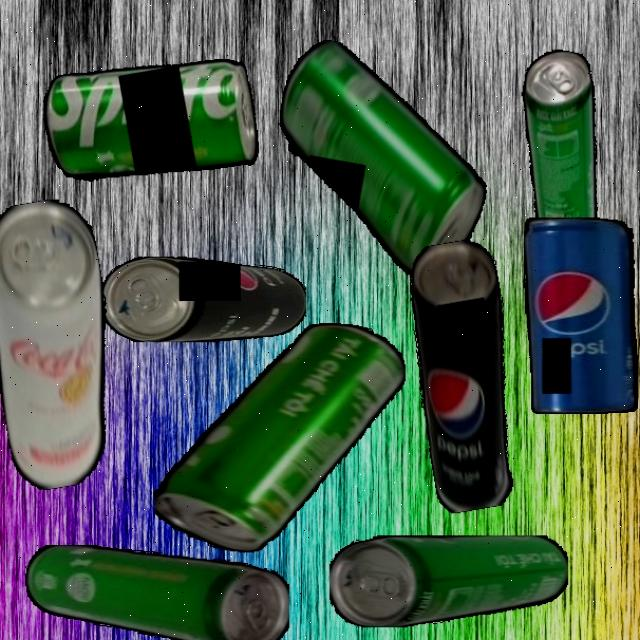debris: (257, 35, 507, 285), (153, 323, 406, 552), (37, 42, 269, 234), (0, 193, 136, 494), (395, 235, 538, 516), (496, 45, 623, 256), (24, 545, 290, 640), (524, 216, 638, 414), (330, 534, 568, 628), (102, 256, 306, 342)
